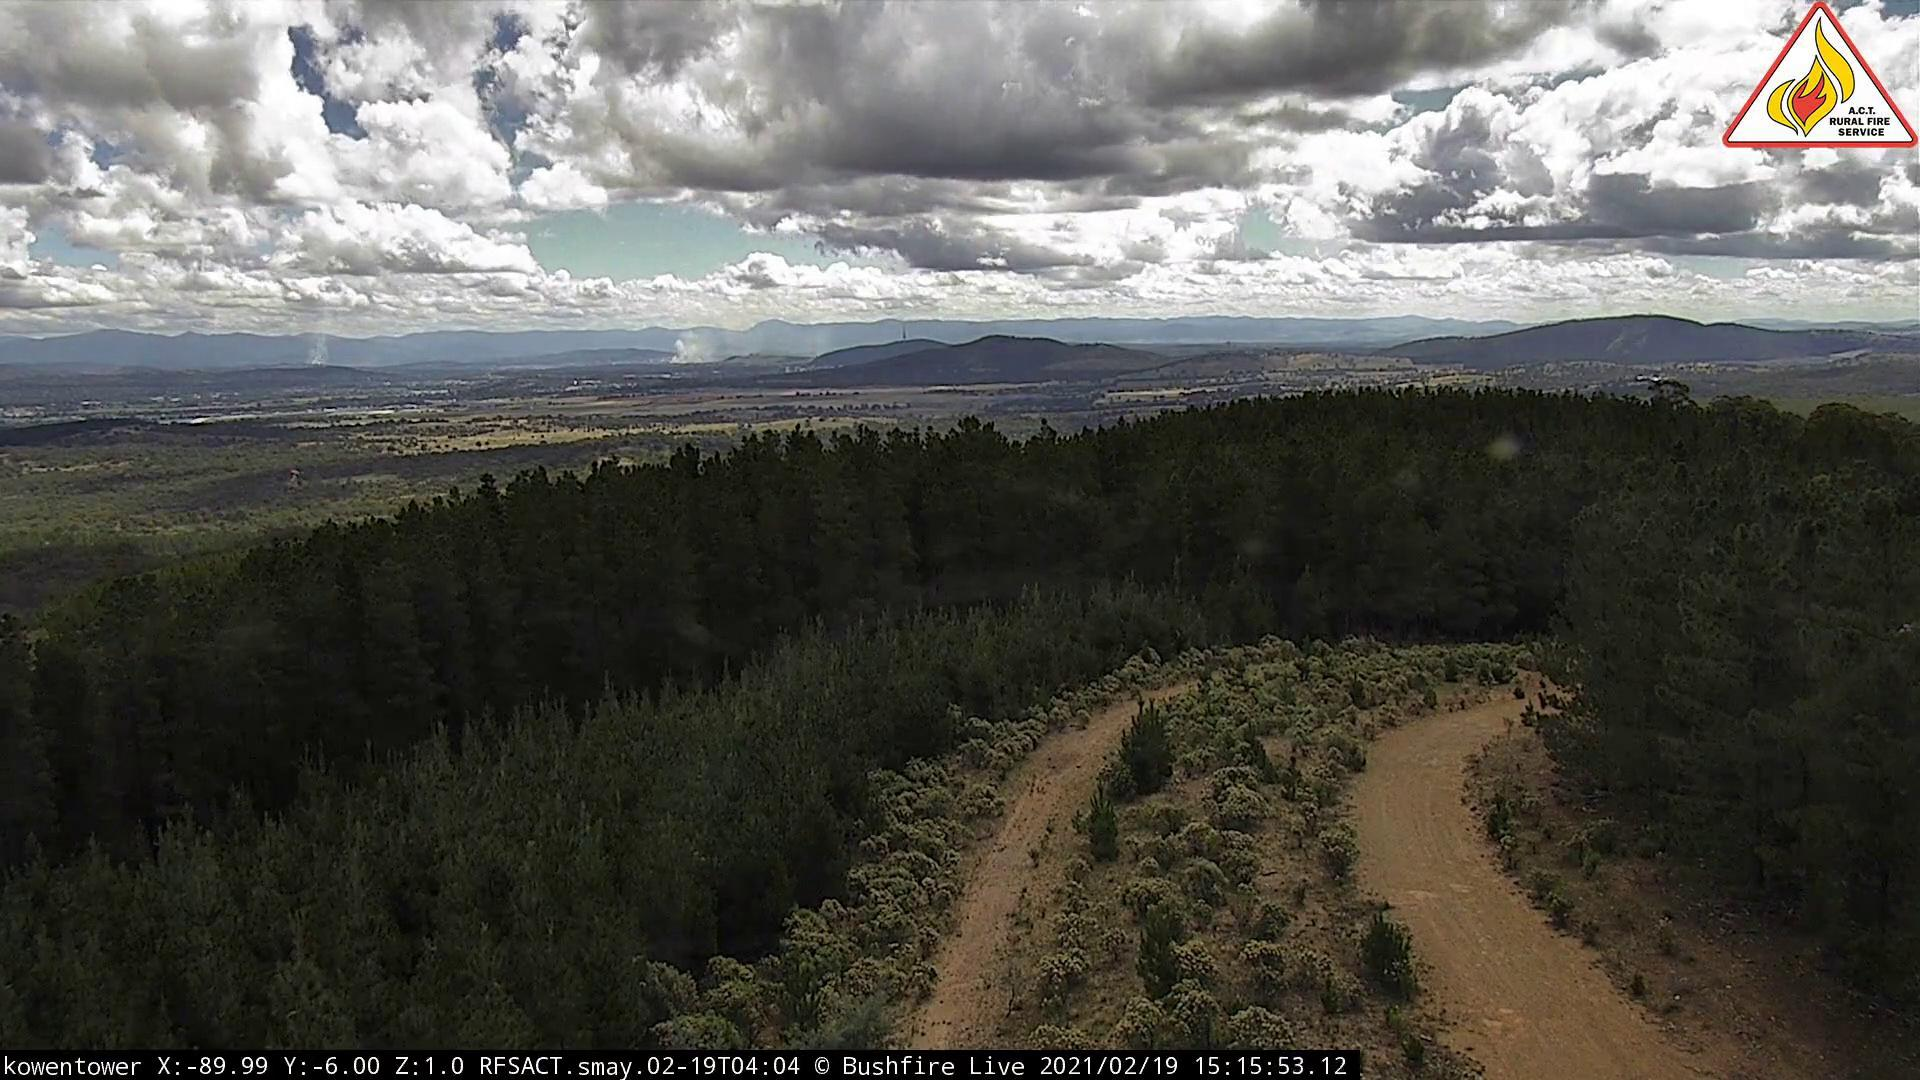Smoke: (665, 313, 767, 371), (298, 313, 347, 373)
